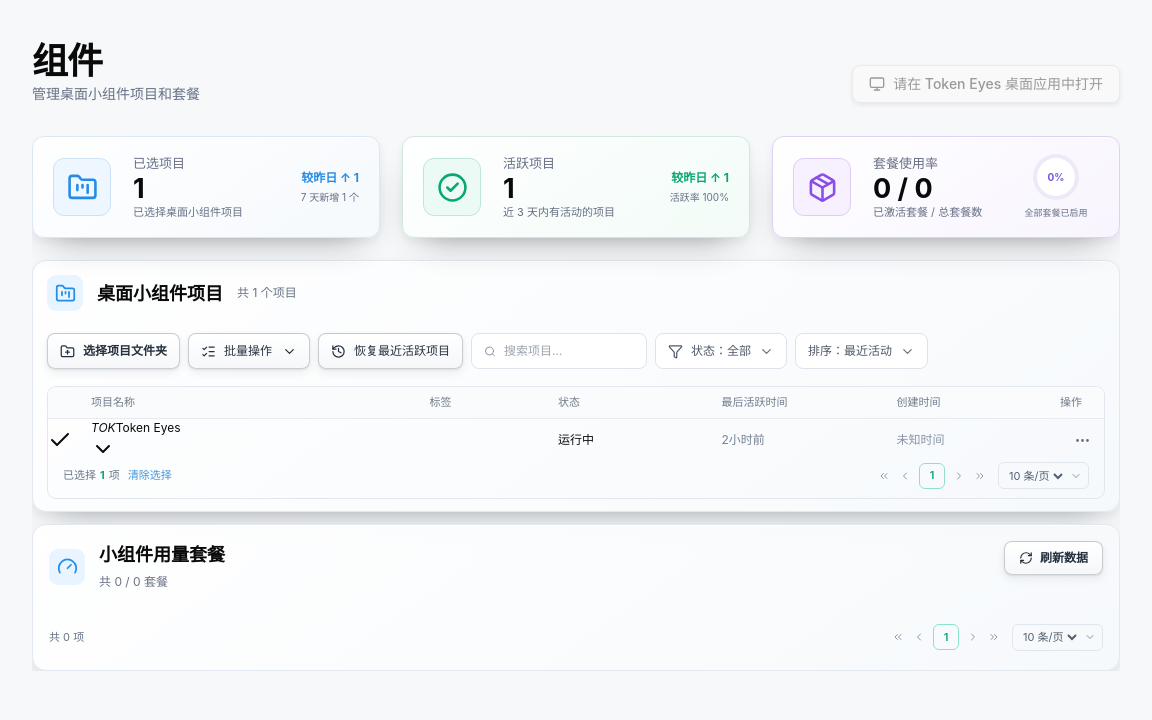
Test case: WidgetsPage Windows desktop widget › groups same-project rows under one project name and keeps every session nested
The image size is (1152, 720).
Expected: the element with test id "widget-summary" is shown, [32, 136, 1120, 238]
Expected: the element showing "活跃项目 1 近 3 天内有活动的项目 较昨日 ↑ 1 活跃率 100%" is shown, [402, 136, 750, 238]
Click the button with test id "widget-project-expand". click: (136, 440)
box: [91, 419, 180, 461]
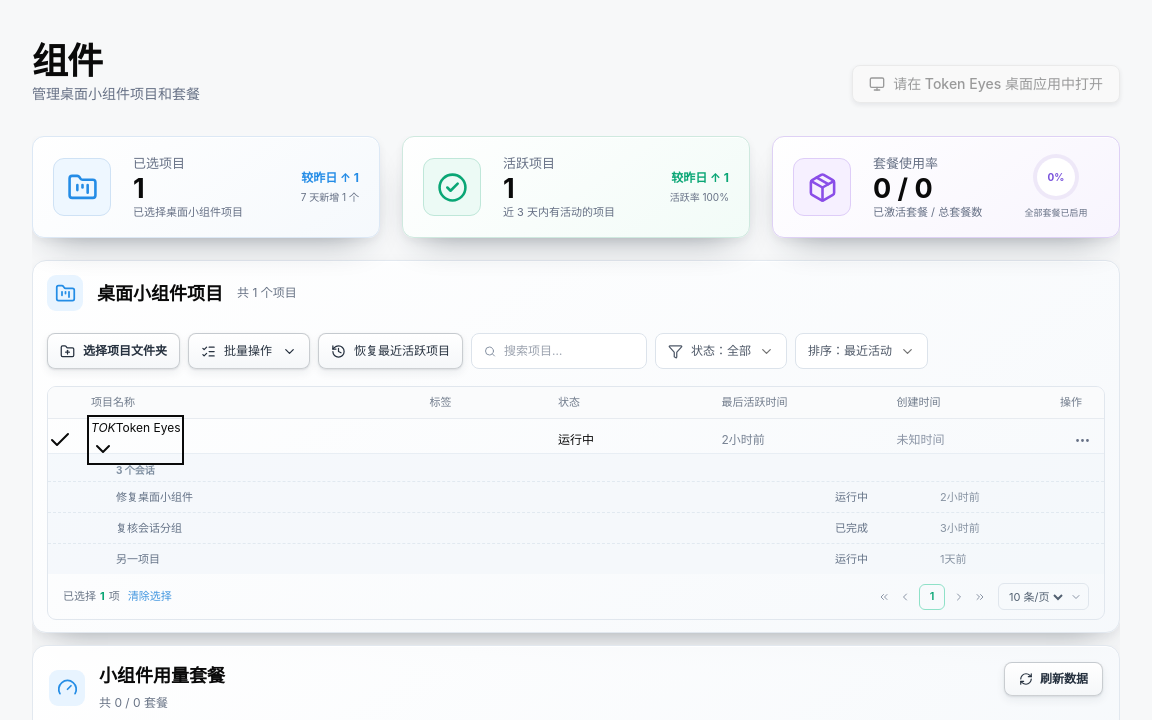
Expected: the number of elements with test id "widget-project-session" is 3, [48, 481, 1104, 512]; [48, 512, 1104, 543]; [48, 543, 1104, 574]
Expected: the element with test id "widget-project-sessions" shows "修复桌面小组件", [116, 490, 193, 504]
Expected: the element with test id "widget-project-sessions" shows "复核会话分组", [116, 521, 182, 535]
